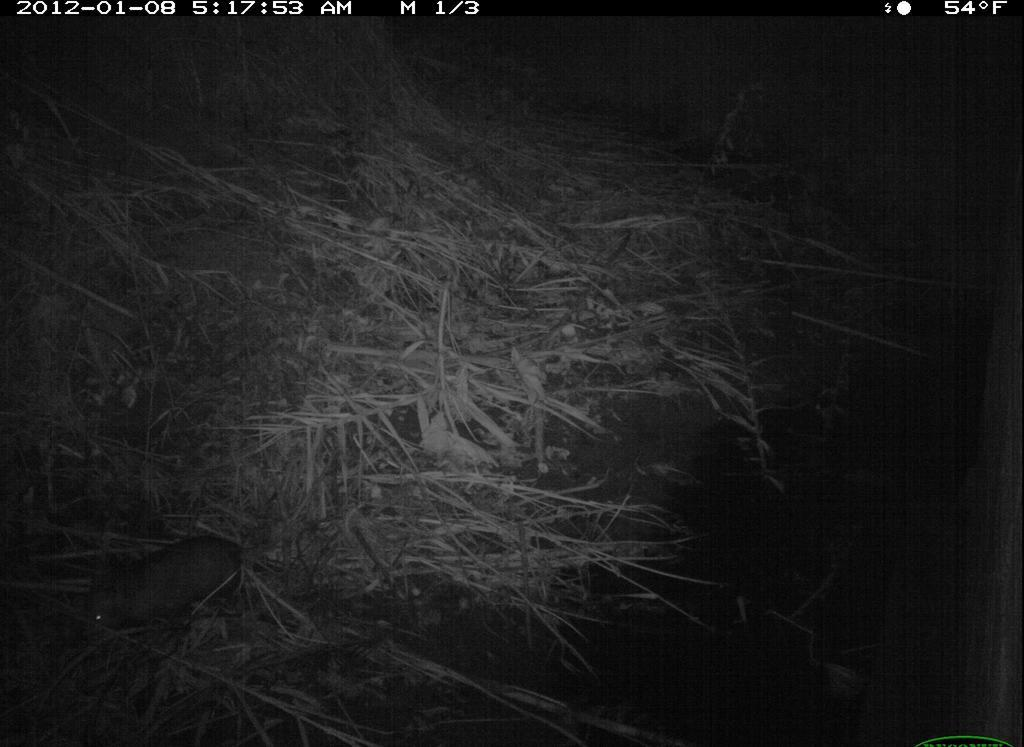opossum: (71, 524, 259, 658)
